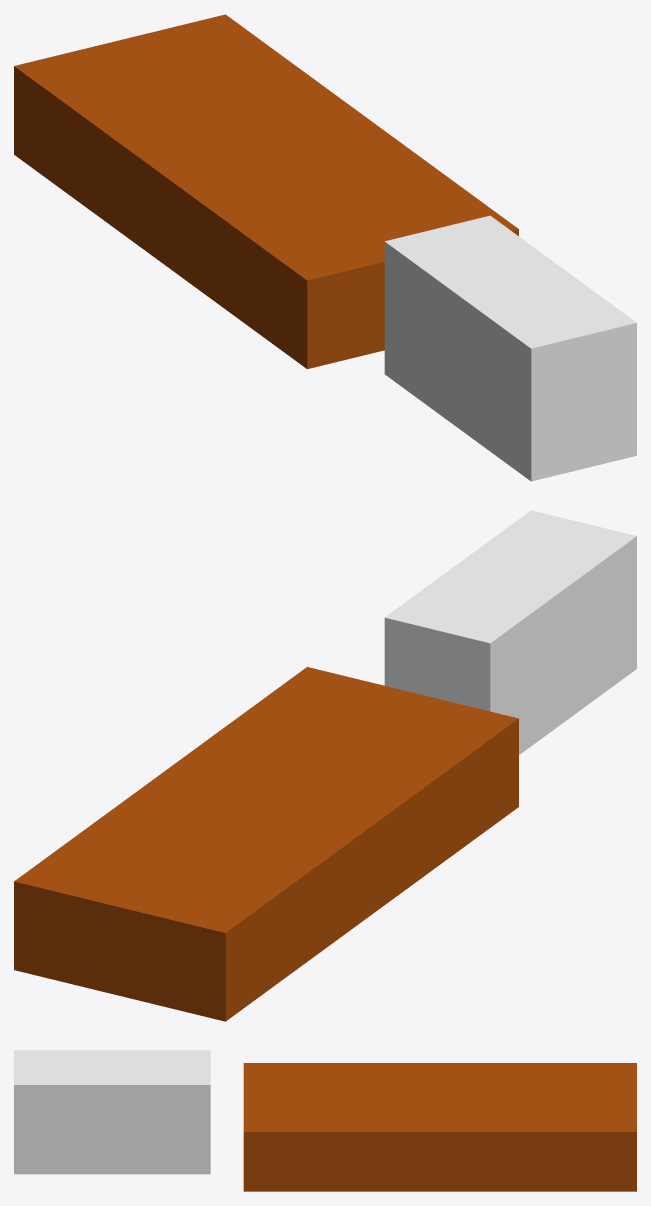
File: husky.glb
The picture shows the model from 3 angles, top to bottom: view 1: azimuth 30°, elevation 25°; view 2: azimuth 150°, elevation 25°; view 3: azimuth 270°, elevation 25°; orthographic projection. The views are drawn at different scales.
Size of the model in its own units: 0.2632 by 0.1579 by 1.
